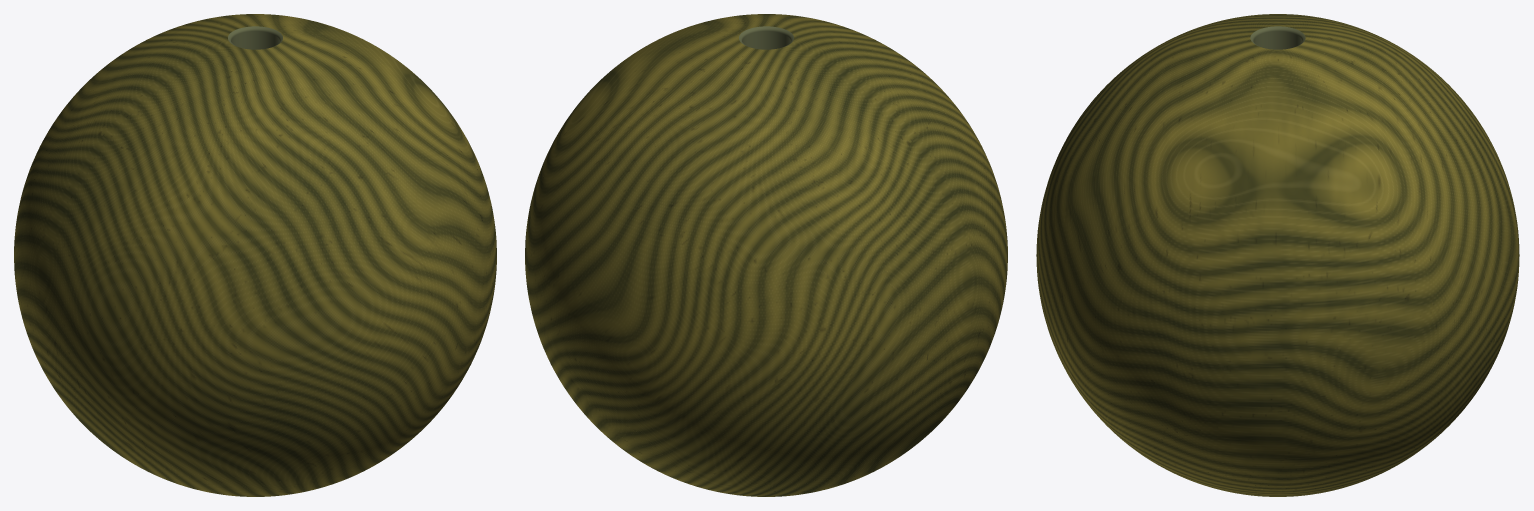
The model's file is wood-buried-nanmu-10mm.glb.
The picture shows the model from 3 angles, left to right: view 1: azimuth 30°, elevation 25°; view 2: azimuth 150°, elevation 25°; view 3: azimuth 270°, elevation 25°; orthographic projection.
Visible parts, largest first — view 1: buried-nanmu; view 2: buried-nanmu; view 3: buried-nanmu.
Boxes of the visible parts, x1,y1,x2,y2 form: buried-nanmu: [14, 14, 496, 496]; buried-nanmu: [525, 14, 1007, 496]; buried-nanmu: [1036, 14, 1519, 496].
Size of the model in its own units: 0.01 by 0.00993 by 0.01.
2 materials, 1 textured.
